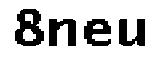8: (10, 6, 45, 50)
e: (80, 14, 114, 50)
n: (46, 14, 79, 50)
u: (118, 14, 149, 52)
